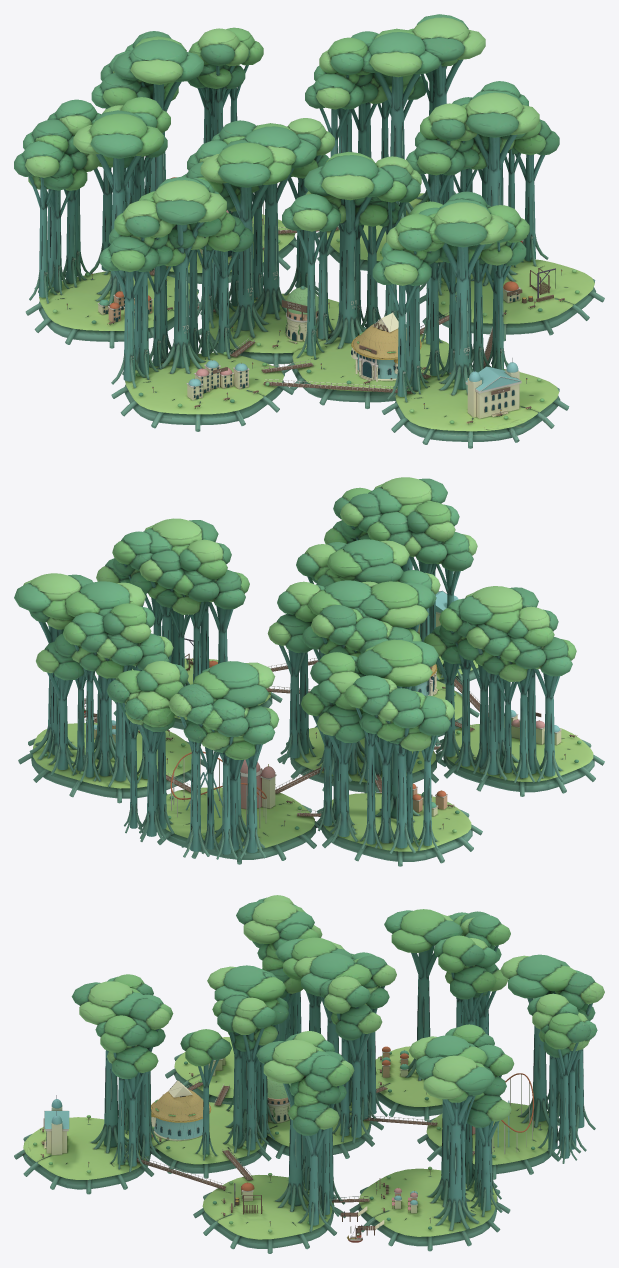
File: sabaody.glb
The picture shows the model from 3 angles, top to bottom: view 1: azimuth 30°, elevation 25°; view 2: azimuth 150°, elevation 25°; view 3: azimuth 270°, elevation 25°; orthographic projection. The views are drawn at different scales.
Parts seen in each view (by area): view 1: forest-district-1-3, forest-district-3-4, forest-district-1-1, forest-district-2-2, forest-district-4-1, forest-district-3-3, forest-district-2-3, terrain-district-1-3, forest-district-4-3, terrain-district-3-5, forest-district-2-0, terrain-district-4-3 (+23 smaller); view 2: forest-district-1-3, forest-district-4-1, forest-district-1-1, forest-district-2-0, forest-district-4-2, forest-district-2-2, forest-district-3-0, forest-district-3-4, terrain-district-3-1, terrain-district-1-1, forest-district-3-2, terrain-district-4-1 (+13 smaller); view 3: forest-district-3-4, forest-district-3-3, forest-district-4-1, forest-district-2-2, terrain-district-4-1, terrain-district-4-3, forest-district-3-0, forest-district-2-0, terrain-district-3-5, forest-district-1-1, forest-district-1-3, forest-district-3-2 (+21 smaller).
Part boxes in pixels (x1,y1,x2,y2): forest-district-1-3: (108,177,244,388); forest-district-3-4: (393,191,529,395); forest-district-1-1: (14,99,147,303); forest-district-2-2: (181,120,316,338); forest-district-4-1: (313,28,464,229); forest-district-3-3: (320,151,443,344); forest-district-2-3: (218,161,374,359); terrain-district-1-3: (111,352,294,431); forest-district-4-3: (414,92,539,295); terrain-district-3-5: (395,369,569,448); forest-district-2-0: (91,31,203,208); terrain-district-4-3: (419,259,595,341); forest-district-1-3: (432,586,568,783); forest-district-4-1: (36,574,164,787); forest-district-1-1: (326,639,454,854); forest-district-2-0: (168,661,279,859); forest-district-4-2: (112,528,245,719); forest-district-2-2: (302,580,428,784); forest-district-3-0: (106,661,188,841); forest-district-3-4: (324,477,447,641); terrain-district-3-1: (160,787,315,859); terrain-district-1-1: (321,793,473,866); forest-district-3-2: (267,581,325,764); terrain-district-4-1: (18,723,191,803); forest-district-3-4: (71,981,211,1172); forest-district-3-3: (189,965,288,1160); forest-district-4-1: (408,1024,514,1222); forest-district-2-2: (291,937,396,1122); terrain-district-4-1: (358,1168,510,1246); terrain-district-4-3: (193,1175,334,1248); forest-district-3-0: (527,990,597,1163); forest-district-2-0: (500,954,604,1133); terrain-district-3-5: (14,1117,150,1194); forest-district-1-1: (400,909,510,1080); forest-district-1-3: (236,895,322,1042); forest-district-3-2: (320,976,382,1144).
Size of the model in its own units: 470 by 187 by 554.
Materials: 1 (1 with a texture image).
